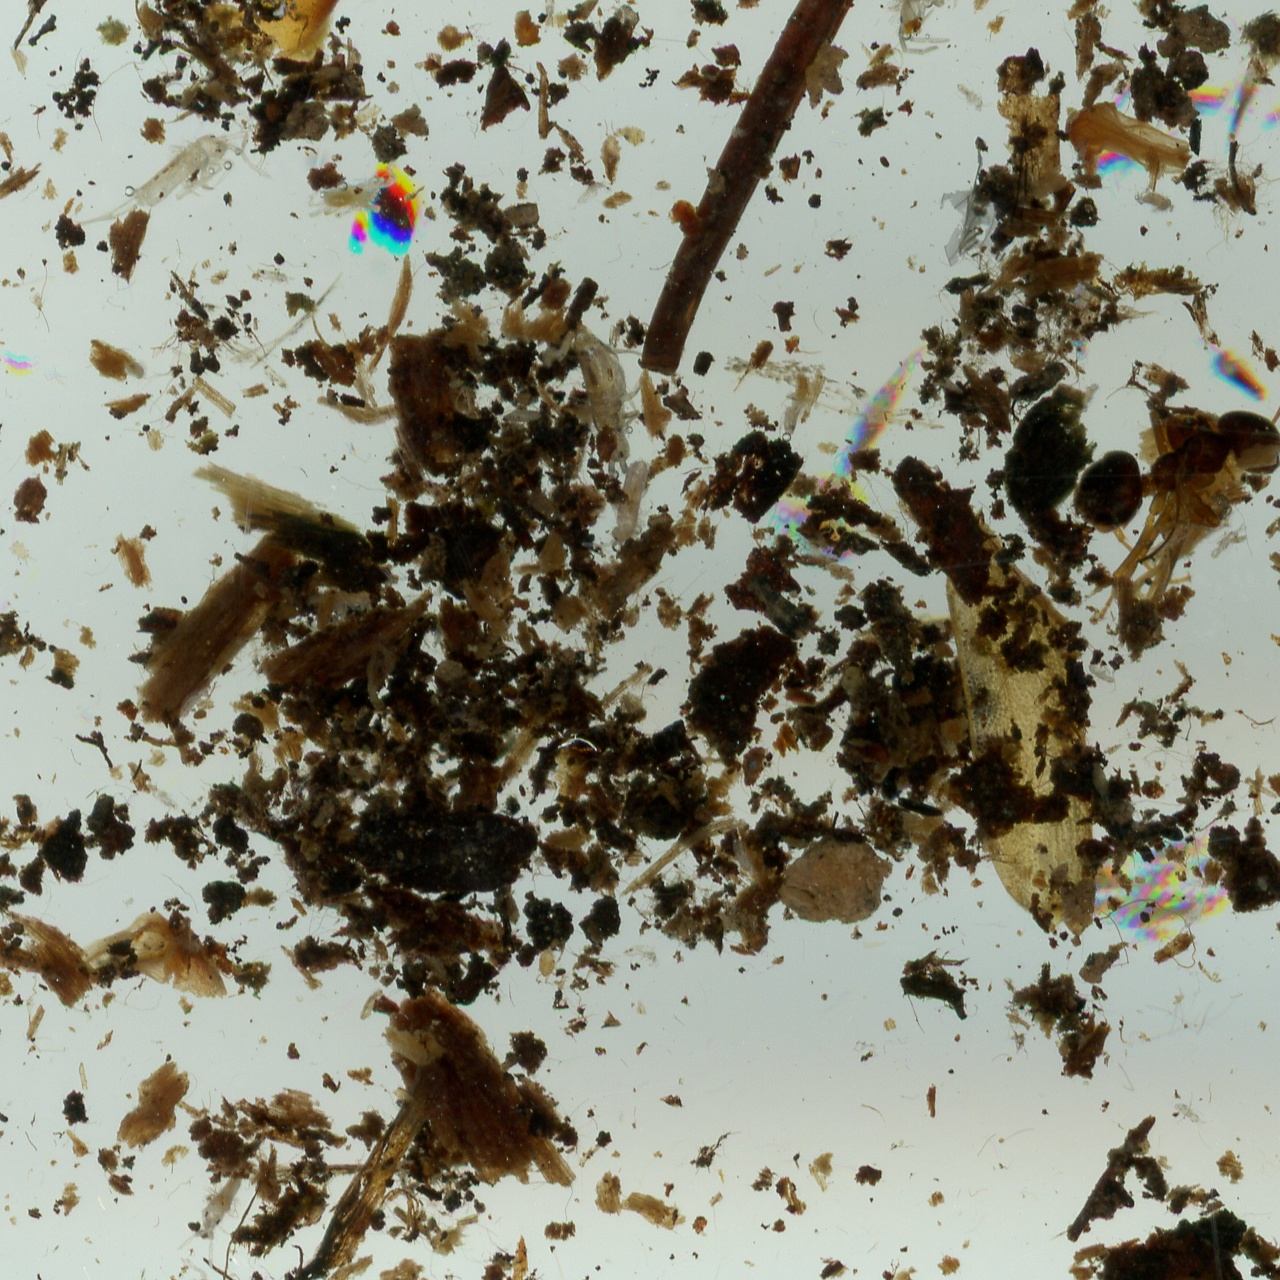arthropod: (1061, 386, 1280, 610), (63, 100, 284, 275), (557, 311, 663, 482), (577, 448, 658, 565), (173, 1171, 260, 1274), (880, 0, 998, 68), (302, 162, 400, 219), (166, 675, 218, 736), (1171, 880, 1219, 942), (559, 171, 617, 219), (947, 70, 998, 120), (775, 367, 809, 440), (142, 777, 188, 821), (110, 347, 161, 383), (1169, 1089, 1211, 1130), (730, 825, 760, 884), (1088, 645, 1118, 696), (532, 942, 566, 988), (5, 533, 42, 574), (245, 260, 299, 288), (156, 1260, 227, 1280), (1132, 189, 1178, 217), (622, 944, 663, 972), (502, 403, 546, 427), (540, 0, 559, 38), (431, 626, 442, 651), (1144, 433, 1151, 437)
